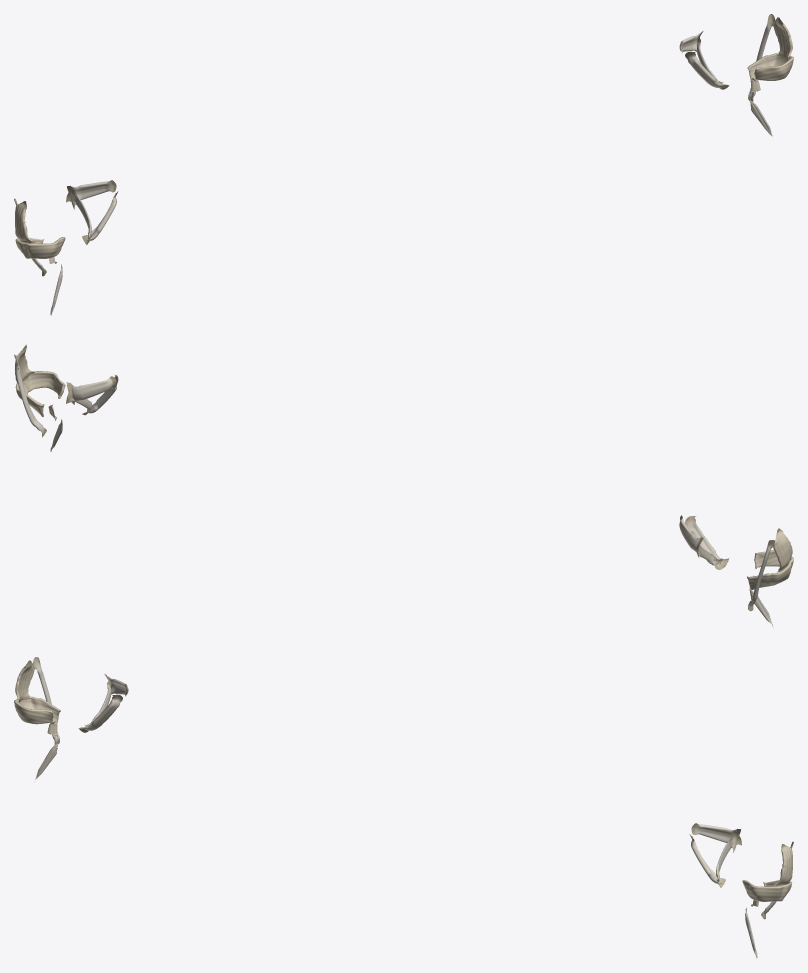
The model's file is elbow-ligaments-fiber.glb.
The picture shows the model from 3 angles, top to bottom: view 1: azimuth 30°, elevation 25°; view 2: azimuth 150°, elevation 25°; view 3: azimuth 330°, elevation 25°; orthographic projection.
Visible parts, largest first — view 1: ligament_annular_radius_L, ligament_annular_radius_R, elbow_ucl_posterior_R; view 2: ligament_annular_radius_L, ligament_annular_radius_R, elbow_ucl_posterior_L, z_lig_radial_collateral_ligament_R, elbow_ucl_anterior_R; view 3: ligament_annular_radius_R, ligament_annular_radius_L, elbow_ucl_posterior_L.
Boxes of the visible parts, x1,y1,x2,y2 form: ligament_annular_radius_L: (747,53,793,80); ligament_annular_radius_R: (15,237,65,258); elbow_ucl_posterior_R: (66,180,116,209); ligament_annular_radius_L: (15,371,65,416); ligament_annular_radius_R: (747,549,793,590); elbow_ucl_posterior_L: (66,376,116,404); z_lig_radial_collateral_ligament_R: (773,528,792,572); elbow_ucl_anterior_R: (685,516,729,569); ligament_annular_radius_R: (14,696,60,724); ligament_annular_radius_L: (742,880,792,901); elbow_ucl_posterior_L: (691,823,740,852).
Bounding box in the file's own units: 0.5031 × 0.0693 × 0.0393.
